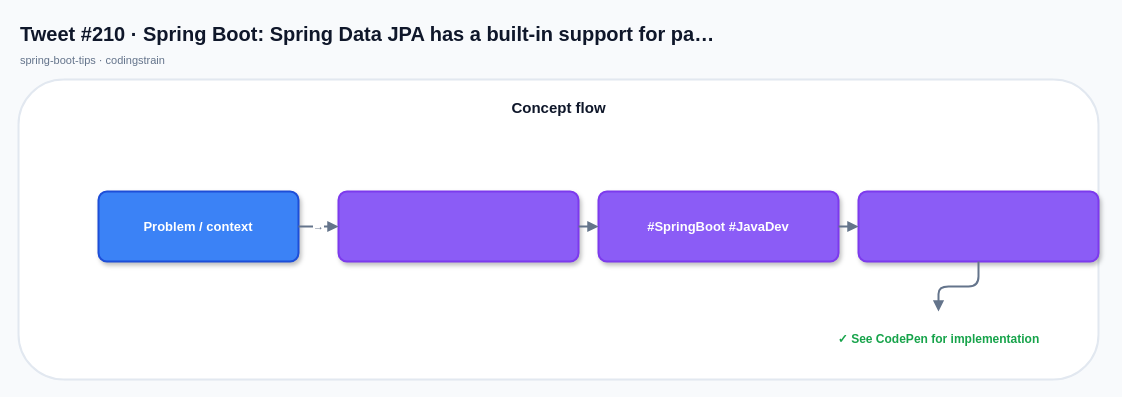
Image size: 1122x397. Some labels were removed from this diagram. The shapes that lost their labels are listed below. From the top down, each one's centre as x and y in pixels, then its label:
[459,227]: You should use pagination in your repositories instead of fetching all
[979,227]: Runnable sample: `spring-boot-tips`
